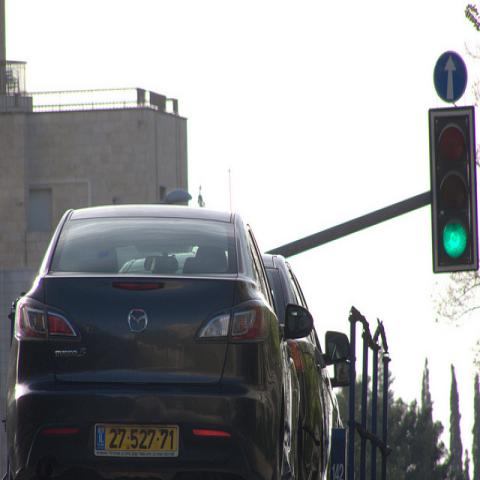car: (4, 202, 313, 479), (268, 254, 350, 479)
